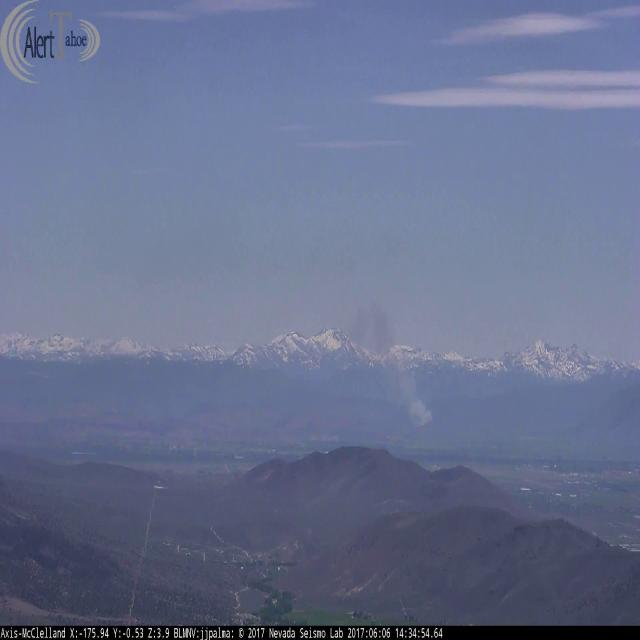smoke: (348, 302, 435, 428)
